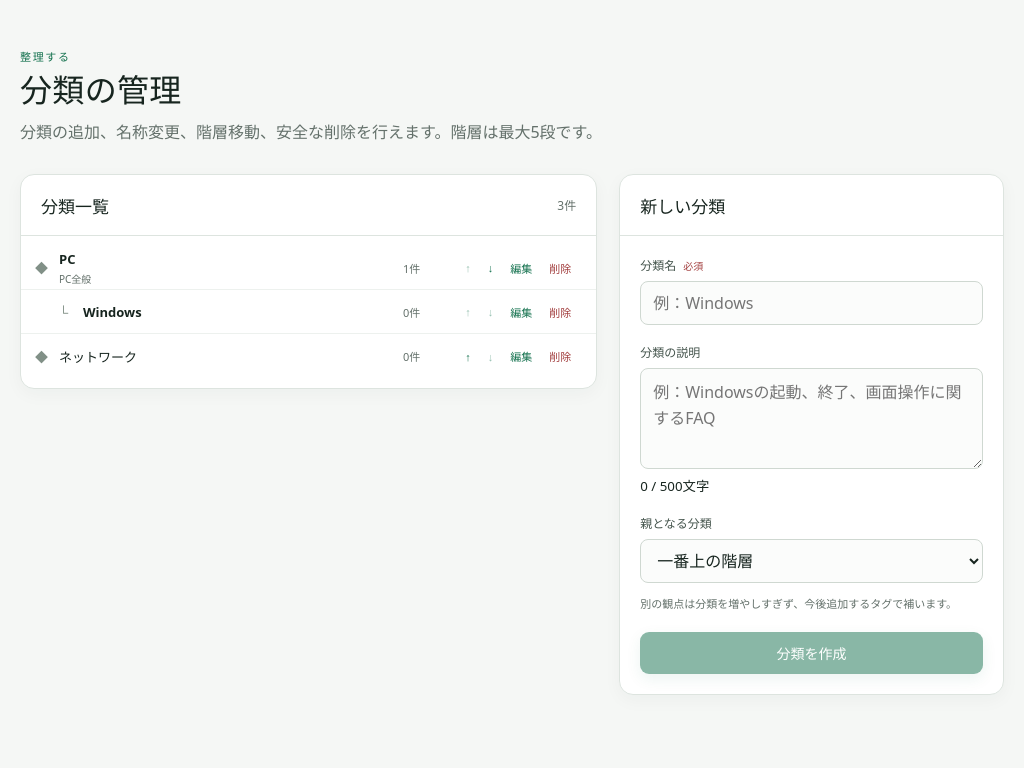
Scenario: CategoriesPage › moves a category only among siblings
This screenshot has width=1024, height=768.
Expected: the button named "PCを上へ" is disabled, [458,255,478,281]
Expected: the button named "Windowsを上へ" is disabled, [458,299,478,325]
Click the button named "ネットワークを上へ".
click(468, 356)  # box [458,343,478,369]
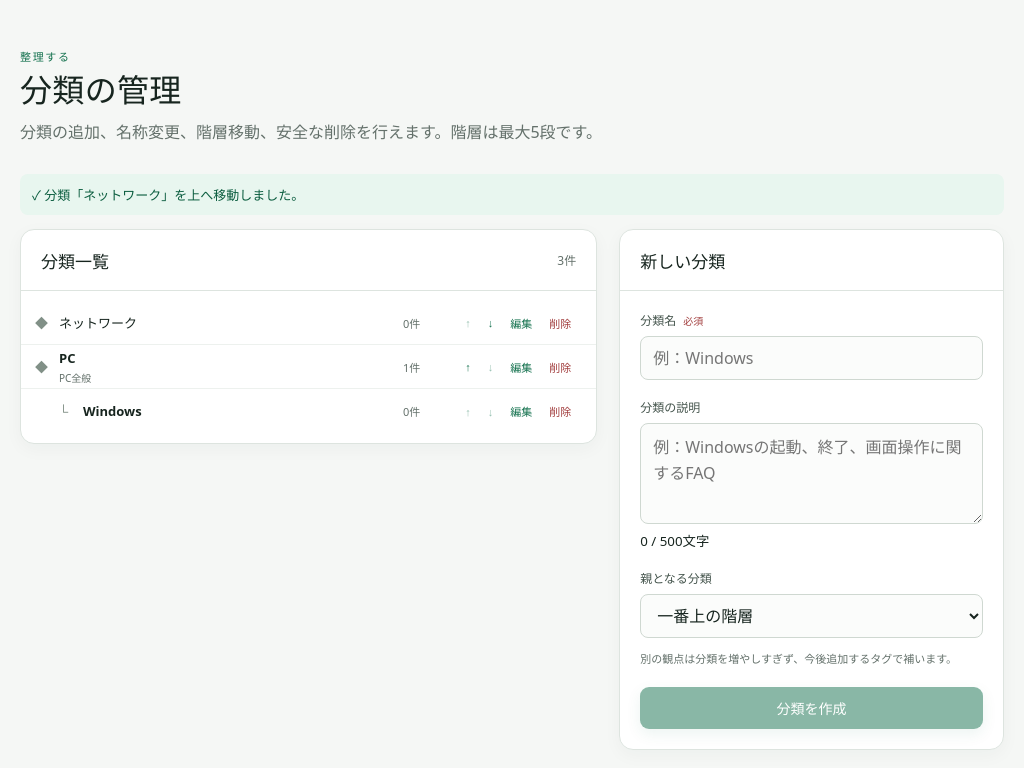
Now the text "上へ移動しました" is shown, box [44,186,304,204]
